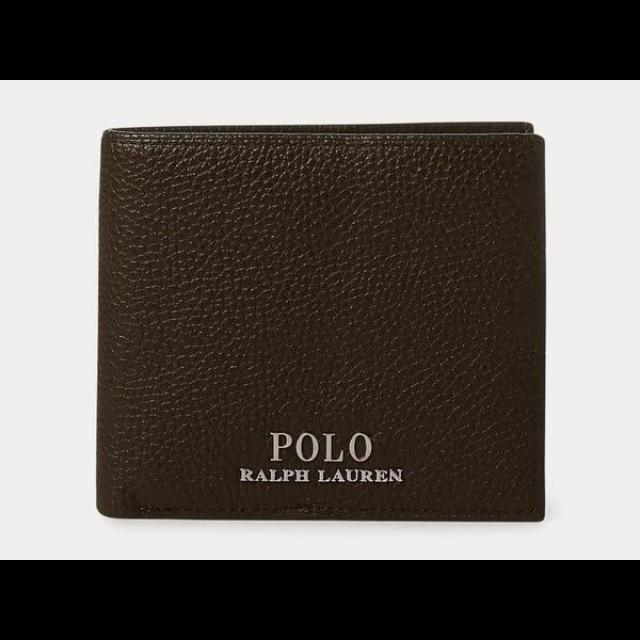Wallet: (92, 118, 554, 528)
